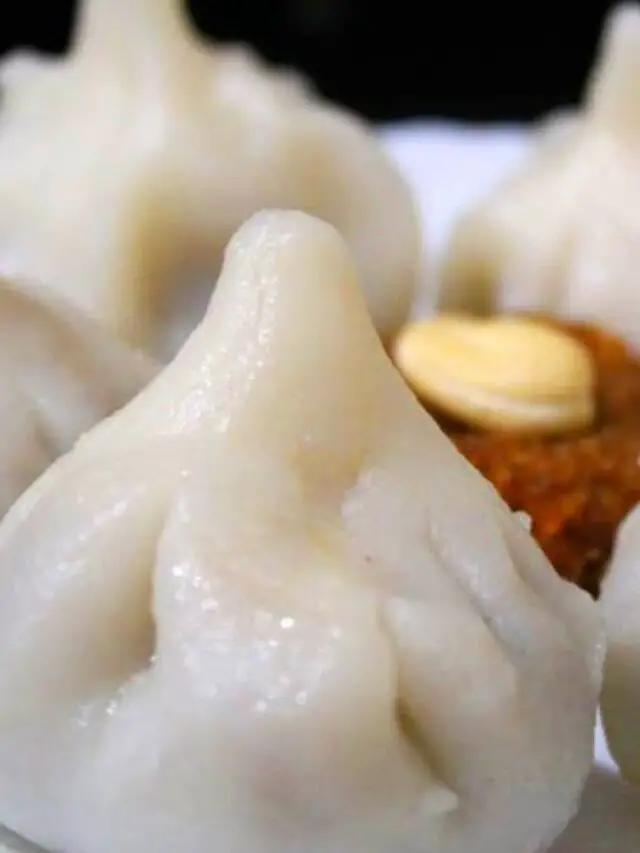modak: (33, 91, 640, 853)
